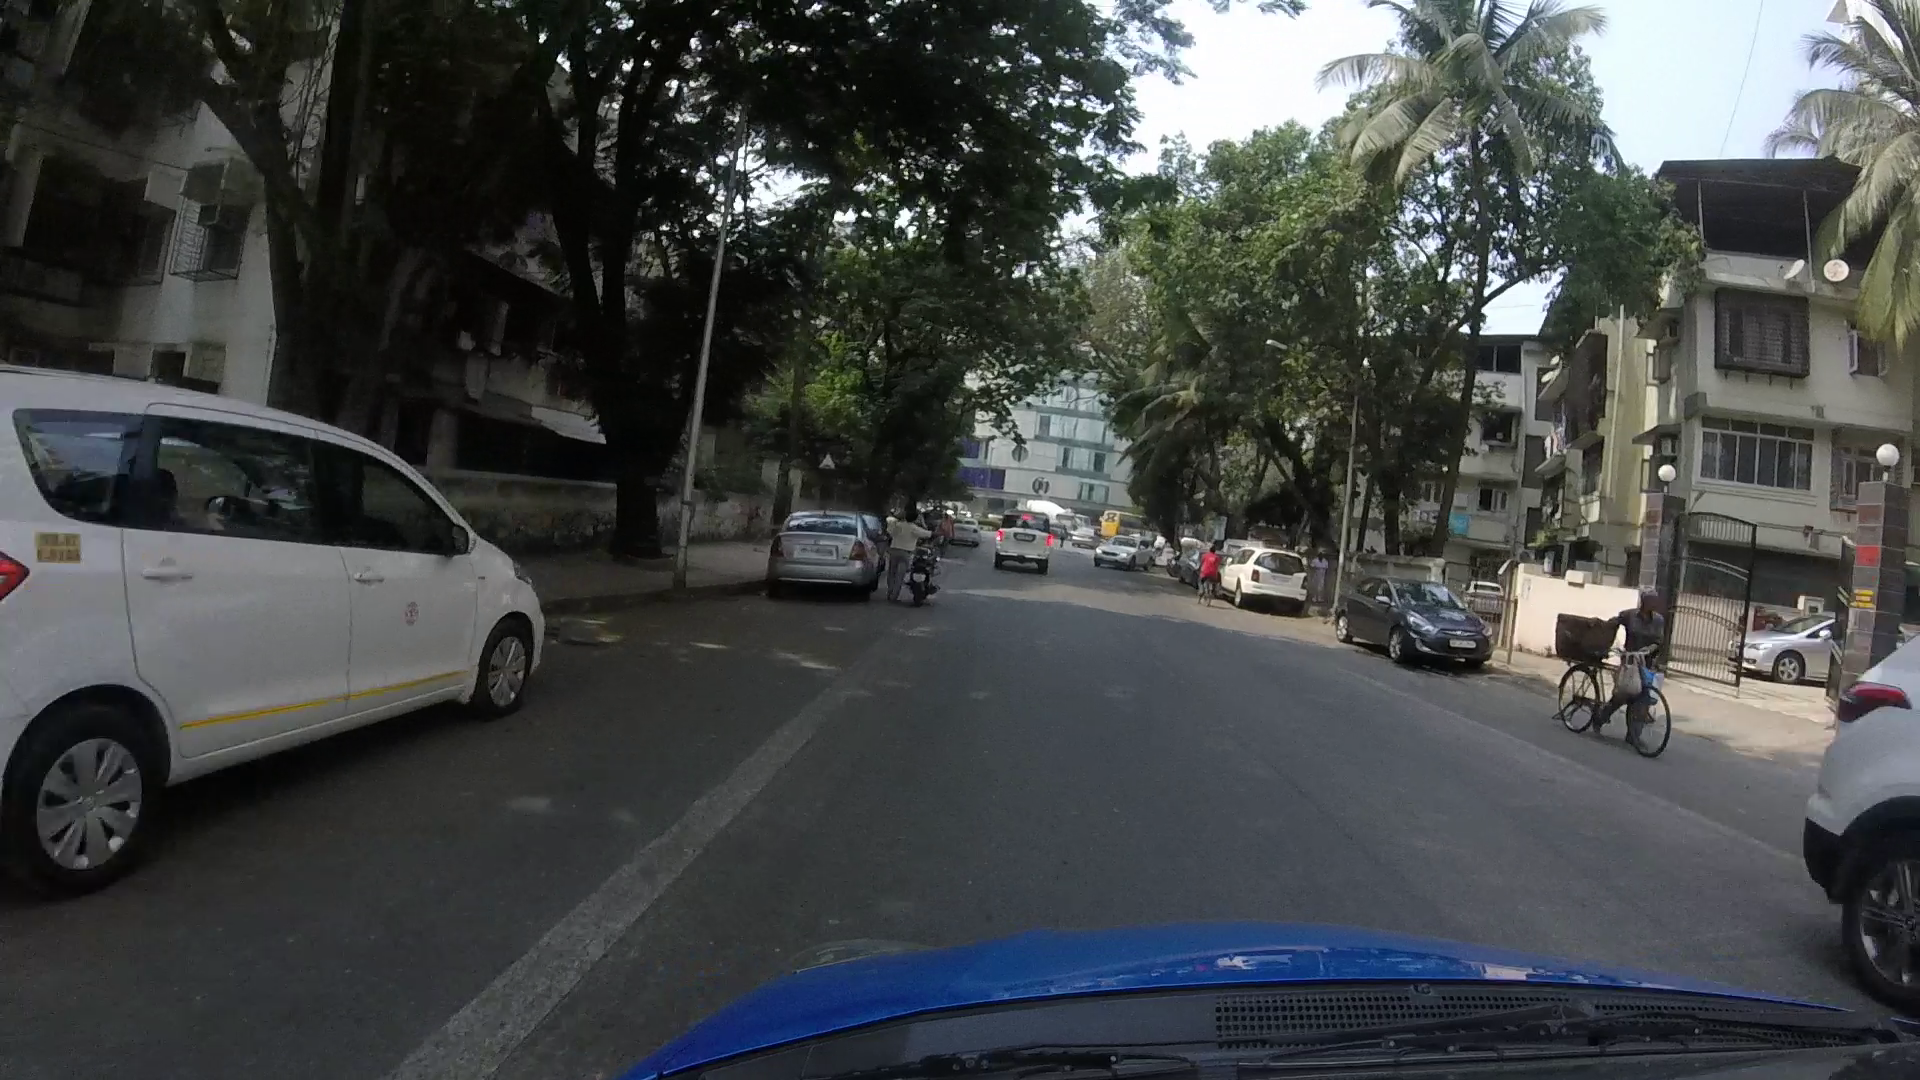bike/scooter: (893, 506, 947, 601)
car: (4, 363, 556, 890), (1785, 632, 1920, 967), (1327, 556, 1495, 687), (760, 498, 877, 613), (1212, 527, 1315, 622), (989, 498, 1087, 587), (1088, 524, 1156, 585)
